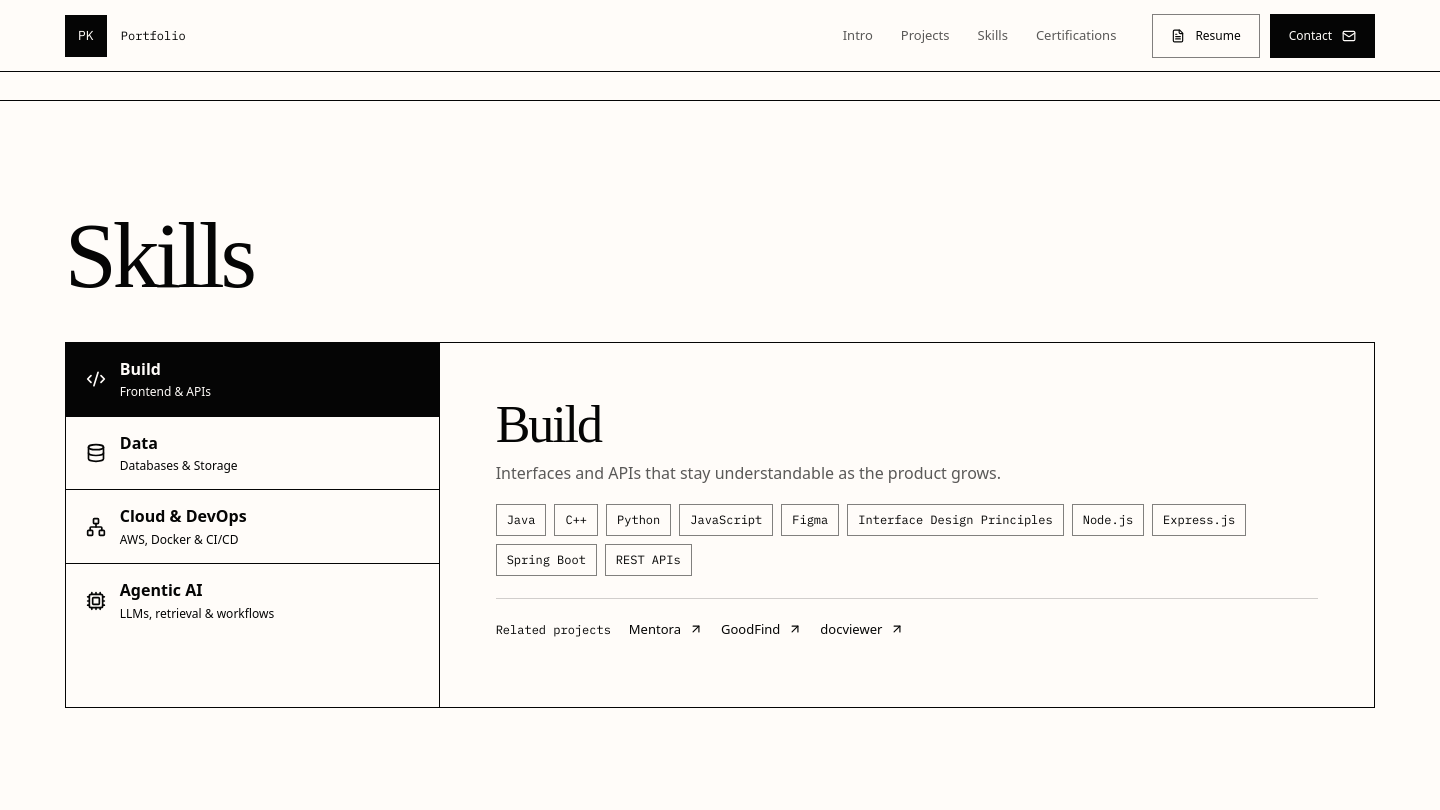
Test: portfolio experience › switches skill groups by pointer and keyboard with matching panel semantics
(page scrolled)
Click the tab "Data Databases & Storage".
click(139, 443)  # box left=66, top=417, right=439, bottom=490
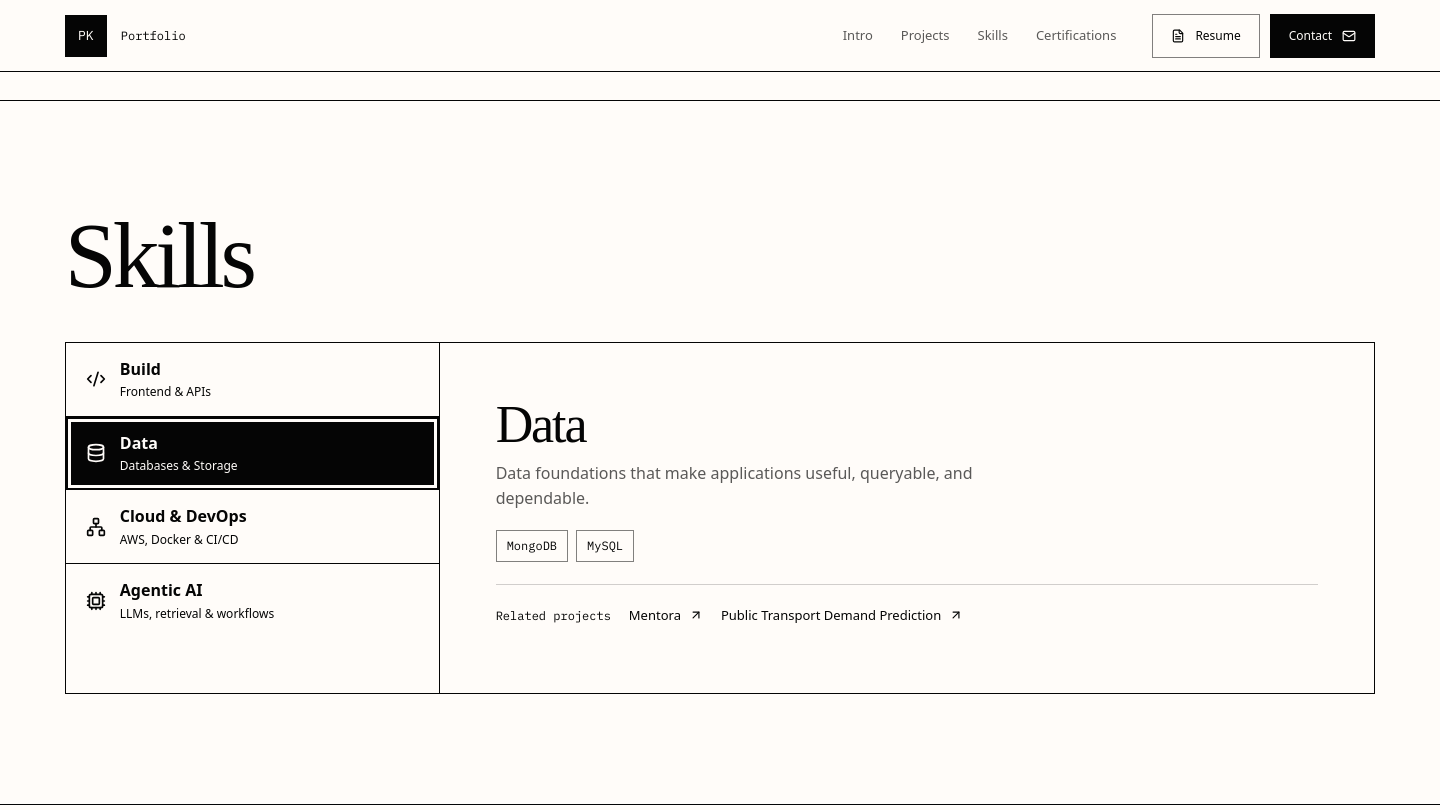
Check: the panel shows "Data", box left=496, top=396, right=585, bottom=453
Press Arrowdown
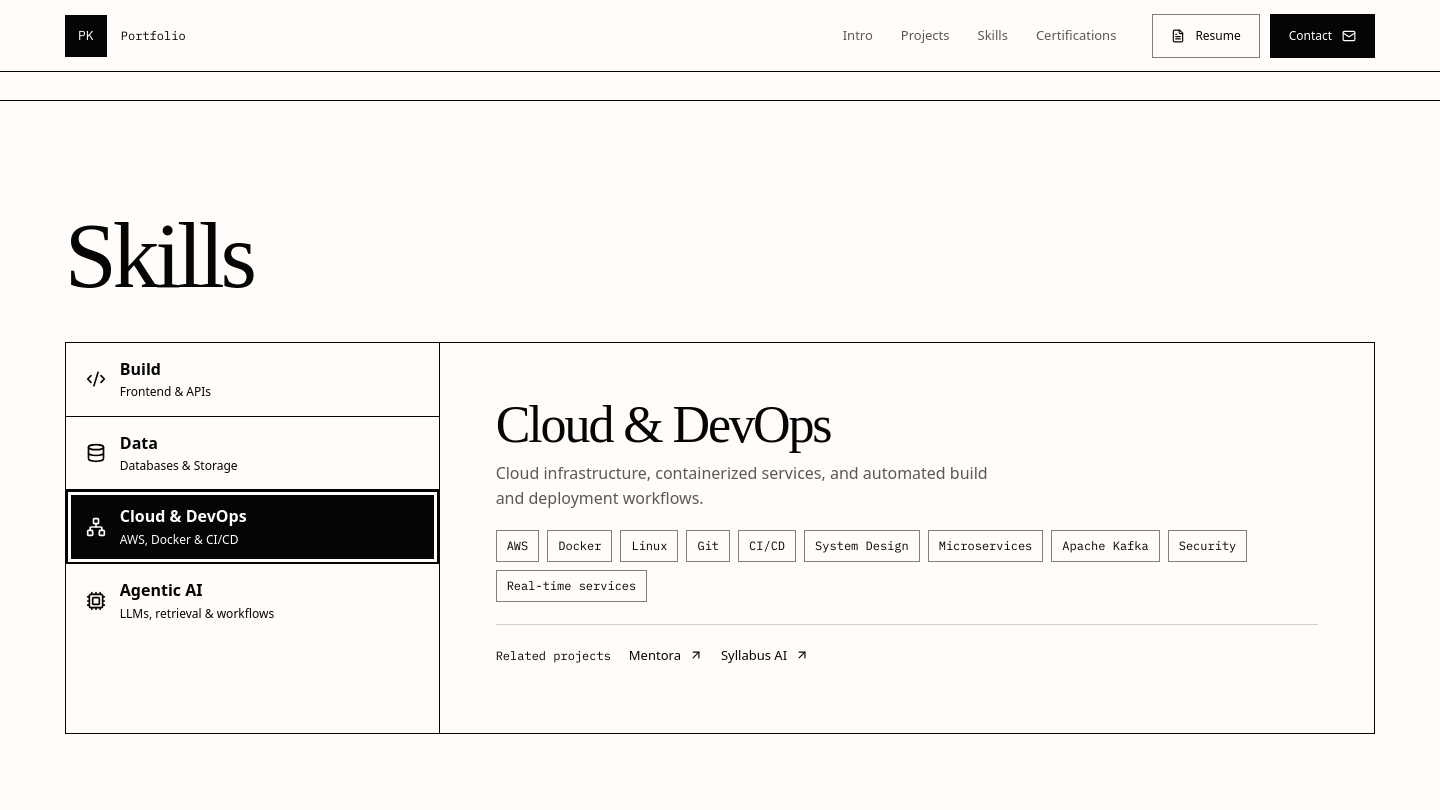
Check: the panel shows "Cloud & DevOps", box left=496, top=396, right=830, bottom=453
Check: the panel shows "CI/CD", box left=749, top=538, right=785, bottom=553
